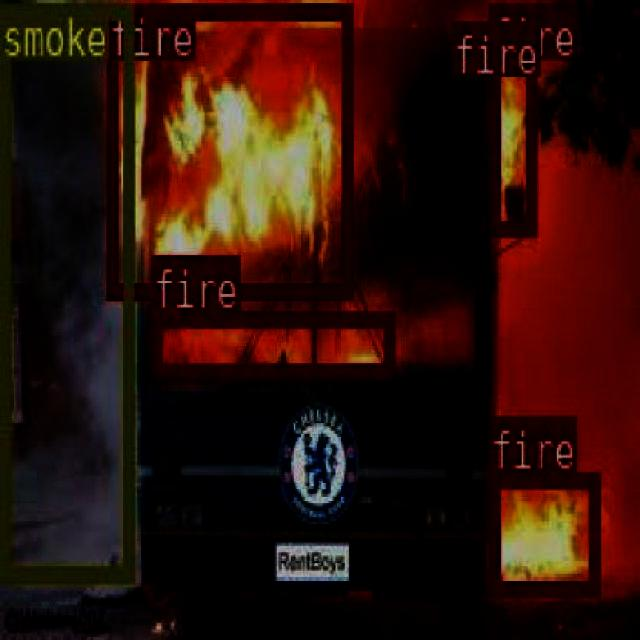fire: (106, 0, 351, 297), (150, 311, 393, 377), (488, 472, 596, 592), (486, 57, 534, 234), (451, 20, 482, 38)
smoke: (0, 0, 132, 577)
